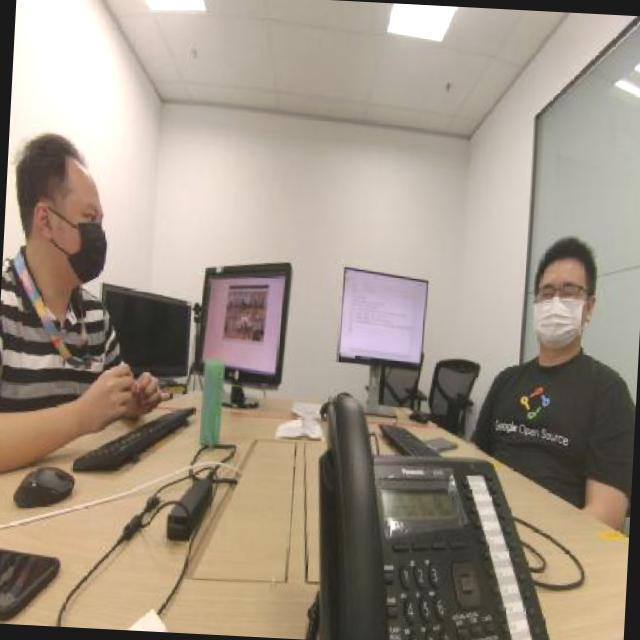Person: (486, 212, 634, 485), (8, 129, 122, 421)
